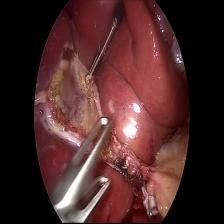Grasper: (55, 117, 119, 223), (85, 47, 108, 82)
